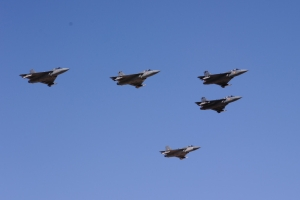flight: (197, 67, 251, 89), (19, 66, 72, 87), (108, 68, 162, 88), (193, 94, 243, 113), (157, 143, 202, 161)
